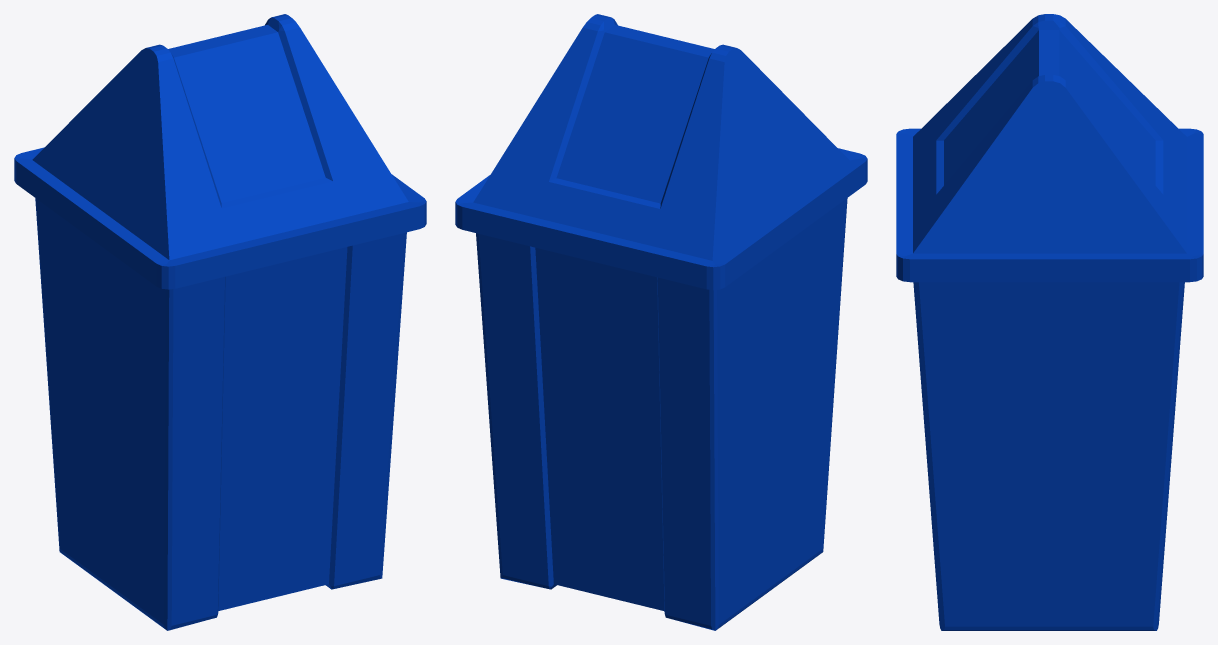
The model's file is Papel.fbx.
3 views of the same model, side by side, from view 1: azimuth 30°, elevation 25°; view 2: azimuth 150°, elevation 25°; view 3: azimuth 270°, elevation 25° (orthographic).
Visible parts, largest first — view 1: lixo.002; view 2: lixo.002; view 3: lixo.002.
Boxes of the visible parts, x1,y1,x2,y2 form: lixo.002: (14, 14, 426, 630); lixo.002: (455, 14, 867, 630); lixo.002: (896, 14, 1203, 630).
Bounding box in the file's own units: 238 × 237 × 451.
